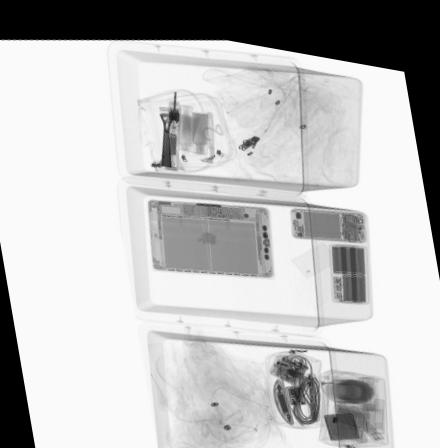Powerbank: (326, 232, 369, 291)
